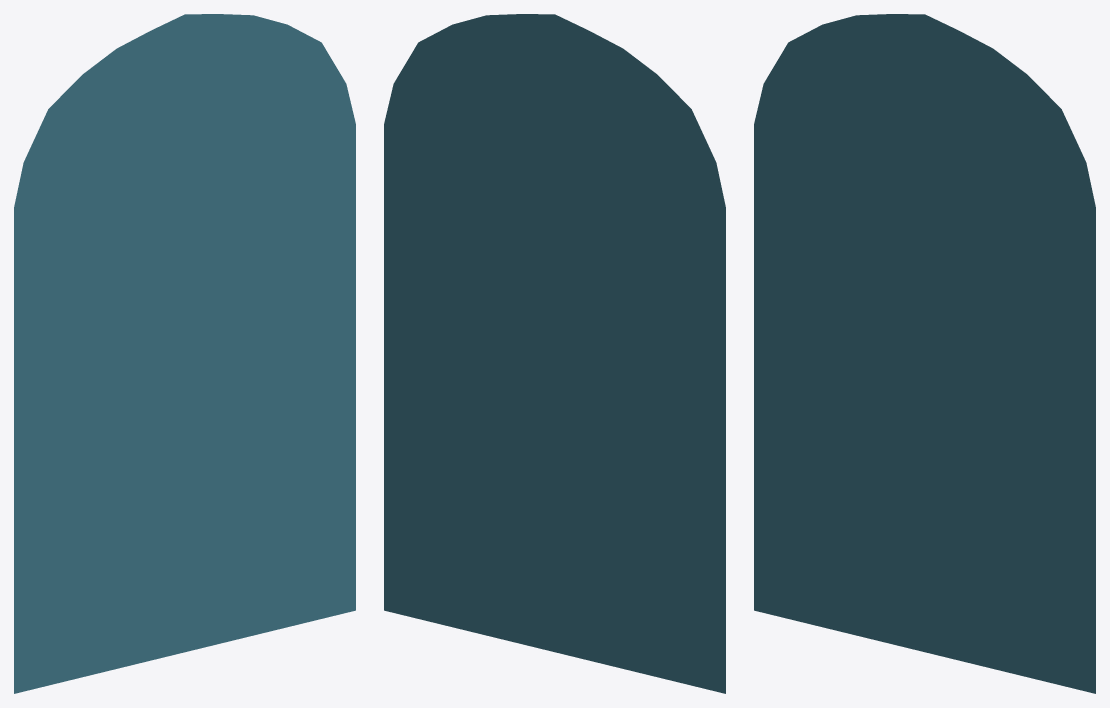
Rendered from portal_portal.fbx.
The picture shows the model from 3 angles, left to right: view 1: azimuth 30°, elevation 25°; view 2: azimuth 150°, elevation 25°; view 3: azimuth 330°, elevation 25°; orthographic projection.
Parts seen in each view (by area): view 1: pPlane2; view 2: pPlane2; view 3: pPlane2.
Boxes of the visible parts, x1,y1,x2,y2 form: pPlane2: [14, 14, 355, 693]; pPlane2: [384, 14, 725, 693]; pPlane2: [754, 14, 1095, 693].
Size of the model in its own units: 8.79 by 15.68 by 1.42e-15.
